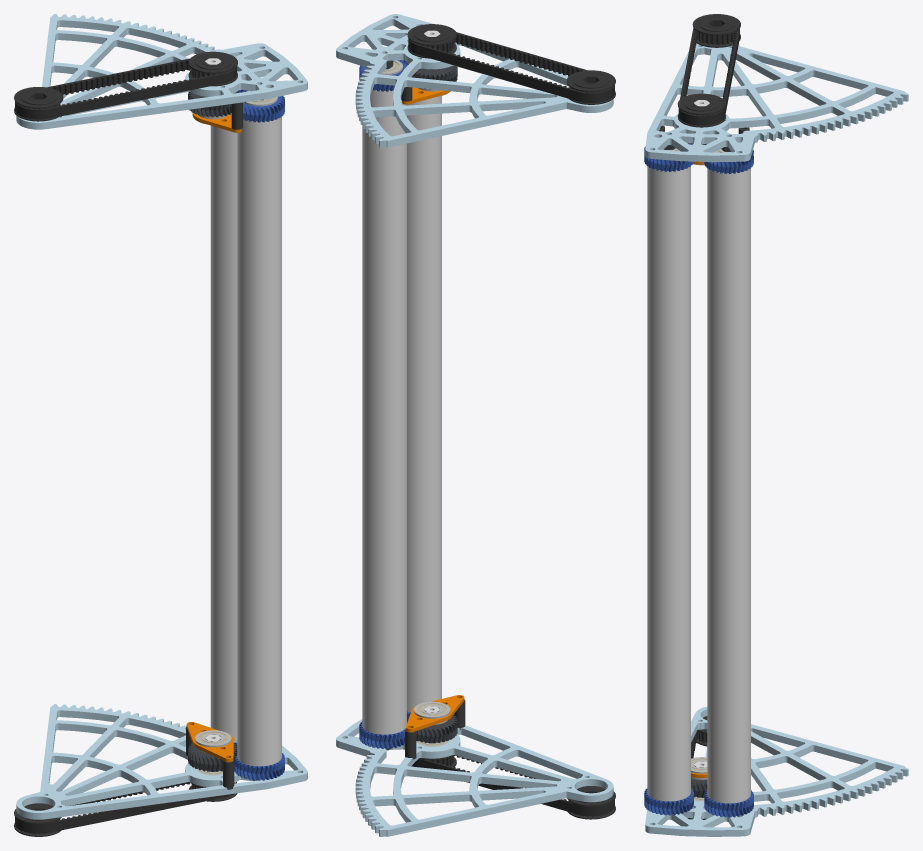
3 renders of one model, left to right at view 1: azimuth 30°, elevation 25°; view 2: azimuth 150°, elevation 25°; view 3: azimuth 270°, elevation 25°, orthographic. The views are drawn at different scales.
Visible parts, largest first — view 1: Part 3.017, Part 3.018, Part 5.003, Part 5.002, 90T 5M 9mm Wide Belt.002, 90T 5M 9mm Wide Belt.003, 24t Aluminum Pulley (HTD 5mm, 9mm Wide, 1/2" Hex Bore).006, 24t Aluminum Pulley (HTD 5mm, 9mm Wide, 1/2" Hex Bore).005, Part 1.035, Part 1.036, Part 19.003, Spur gear (32 teeth).003 (+1 smaller); view 2: Part 3.018, Part 3.017, Part 5.003, Part 5.002, 90T 5M 9mm Wide Belt.002, 90T 5M 9mm Wide Belt.003, 24t Aluminum Pulley (HTD 5mm, 9mm Wide, 1/2" Hex Bore).006, 24t Aluminum Pulley (HTD 5mm, 9mm Wide, 1/2" Hex Bore).005, Part 19.003, Spur gear (32 teeth).003, Part 1.037, 24t Aluminum Pulley (HTD 5mm, 9mm Wide, 1/2" Hex Bore).007 (+1 smaller); view 3: Part 3.017, Part 3.018, Part 5.002, Part 5.003, 90T 5M 9mm Wide Belt.002, 24t Aluminum Pulley (HTD 5mm, 9mm Wide, 1/2" Hex Bore).005, 24t Aluminum Pulley (HTD 5mm, 9mm Wide, 1/2" Hex Bore).006, Part 1.037, Part 1.035, Part 1.038, Part 1.036.
Part boxes in pixels (x1,y1,x2,y2): Part 3.017: (237,116,281,766); Part 3.018: (210,125,237,742); Part 5.003: (16,704,307,819); Part 5.002: (16,14,307,129); 90T 5M 9mm Wide Belt.002: (15,58,236,119); 90T 5M 9mm Wide Belt.003: (15,782,236,833); 24t Aluminum Pulley (HTD 5mm, 9mm Wide, 1/2" Hex Bore).006: (188,51,237,86); 24t Aluminum Pulley (HTD 5mm, 9mm Wide, 1/2" Hex Bore).005: (14,87,63,121); Part 1.035: (234,753,284,780); Part 1.036: (241,90,284,122); Part 19.003: (186,722,233,762); Spur gear (32 teeth).003: (188,742,237,771); Part 3.018: (362,89,406,734); Part 3.017: (407,96,441,712); Part 5.003: (336,719,613,836); Part 5.002: (336,14,613,147); 90T 5M 9mm Wide Belt.002: (408,32,614,102); 90T 5M 9mm Wide Belt.003: (412,755,614,816); 24t Aluminum Pulley (HTD 5mm, 9mm Wide, 1/2" Hex Bore).006: (407,24,456,58); 24t Aluminum Pulley (HTD 5mm, 9mm Wide, 1/2" Hex Bore).005: (566,70,615,104); Part 19.003: (406,695,464,732); Spur gear (32 teeth).003: (407,715,457,743); Part 1.037: (359,721,405,748); 24t Aluminum Pulley (HTD 5mm, 9mm Wide, 1/2" Hex Bore).007: (567,786,615,819); Part 3.017: (647,166,690,801); Part 3.018: (707,168,750,803); Part 5.002: (645,43,908,162); Part 5.003: (645,706,908,836); 90T 5M 9mm Wide Belt.002: (678,28,739,125); 24t Aluminum Pulley (HTD 5mm, 9mm Wide, 1/2" Hex Bore).005: (692,14,740,47); 24t Aluminum Pulley (HTD 5mm, 9mm Wide, 1/2" Hex Bore).006: (677,93,725,127); Part 1.037: (704,790,753,817); Part 1.035: (644,788,693,815); Part 1.038: (704,150,753,173); Part 1.036: (644,143,693,171).
Bounding box in the file's own units: 0.2589 × 0.6873 × 0.23.
